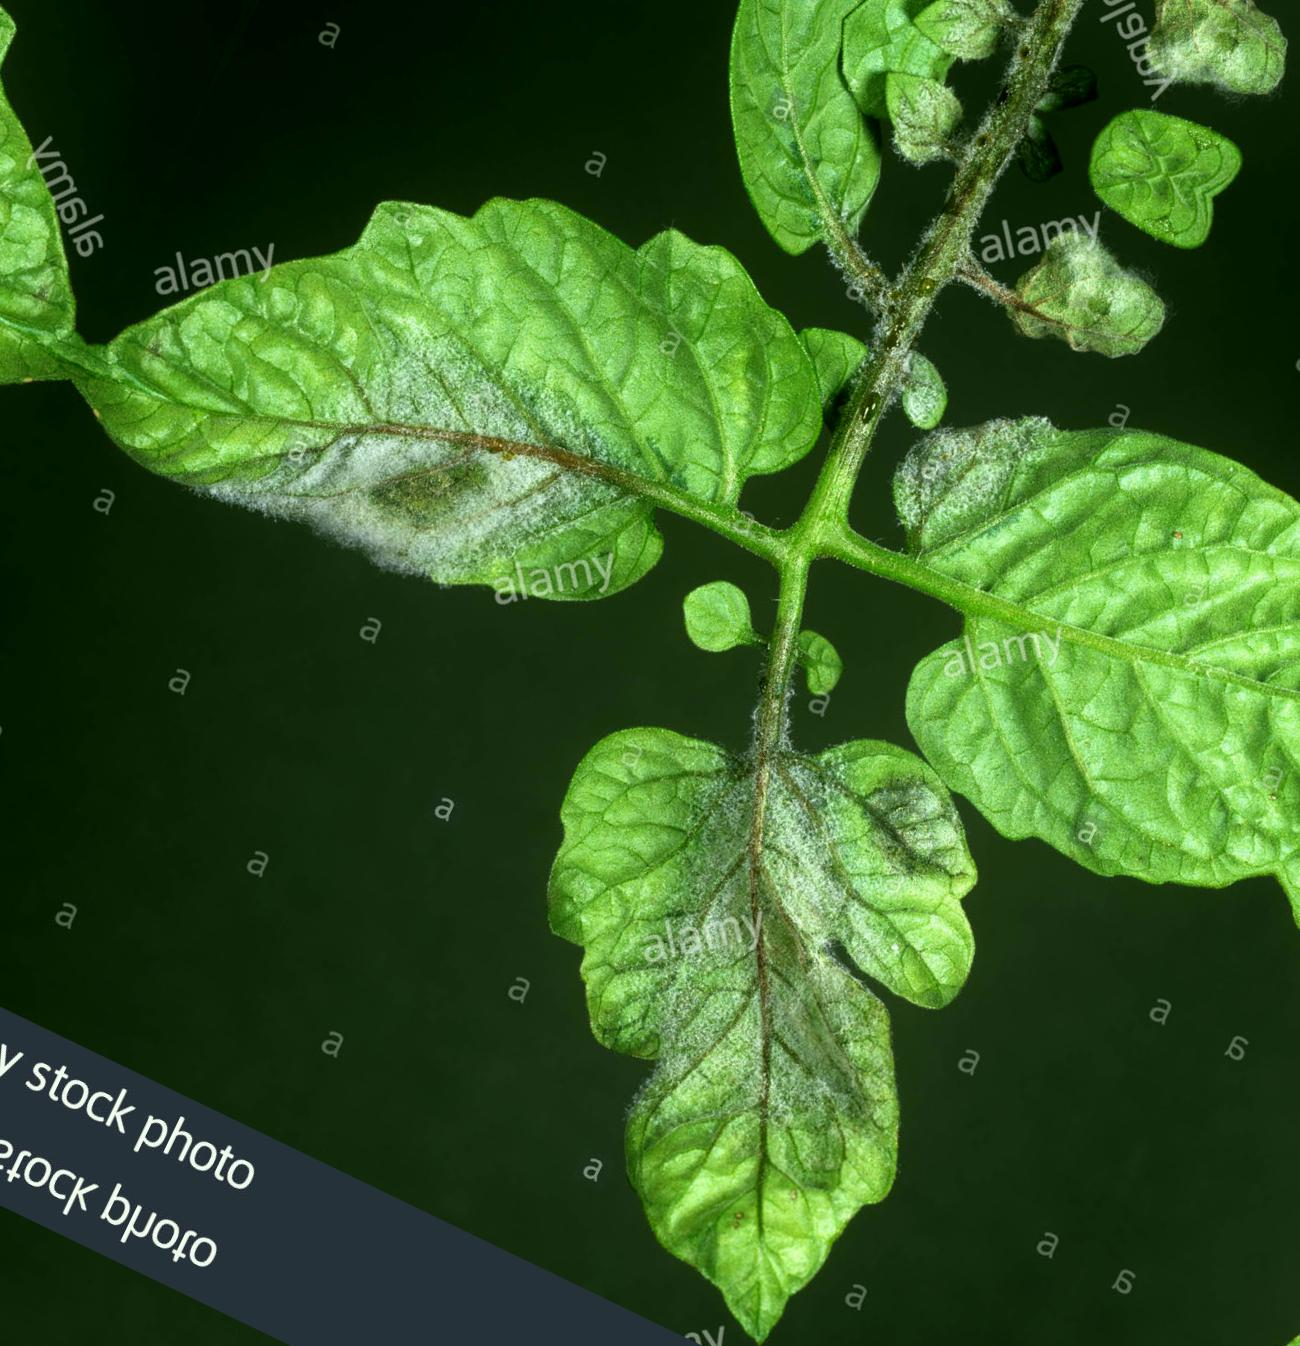Tomato leaf late blight: (67, 8, 918, 750), (381, 630, 1074, 1346), (752, 308, 1300, 969)
